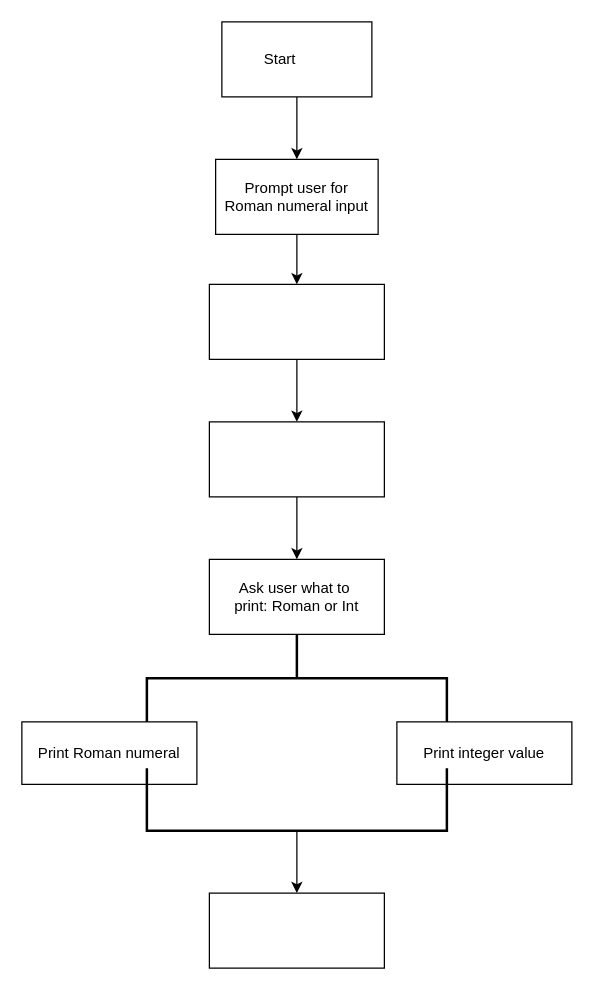
Some shapes in this 594 by 990 pixel diagram are drawn without their labels. Here are the shapes that lost their labels. From the top down, the centre of each, then its label:
[296,321]: Create romanType Object with input
[296,459]: Convert Roman Numeral - Integer
[296,930]: end
